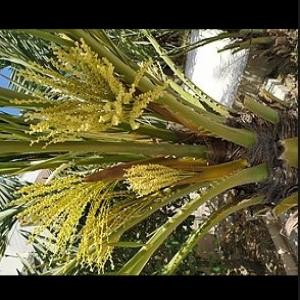palm tree: (0, 28, 297, 274)
